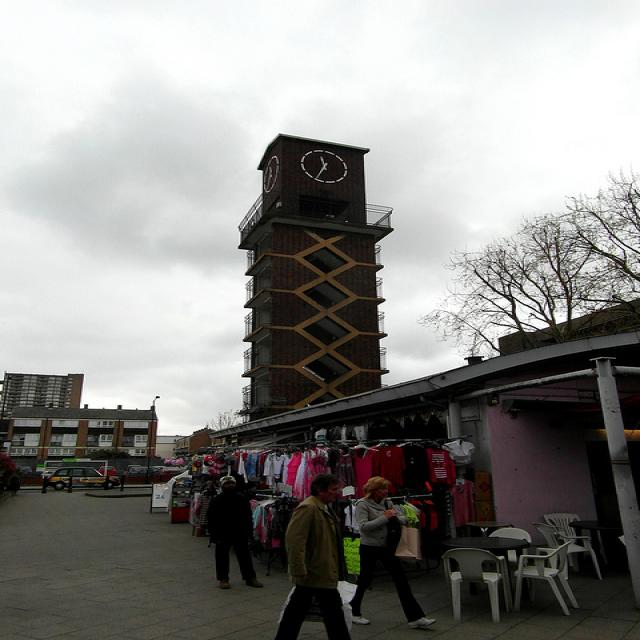Vehicle: (46, 466, 120, 490), (100, 466, 118, 477)
